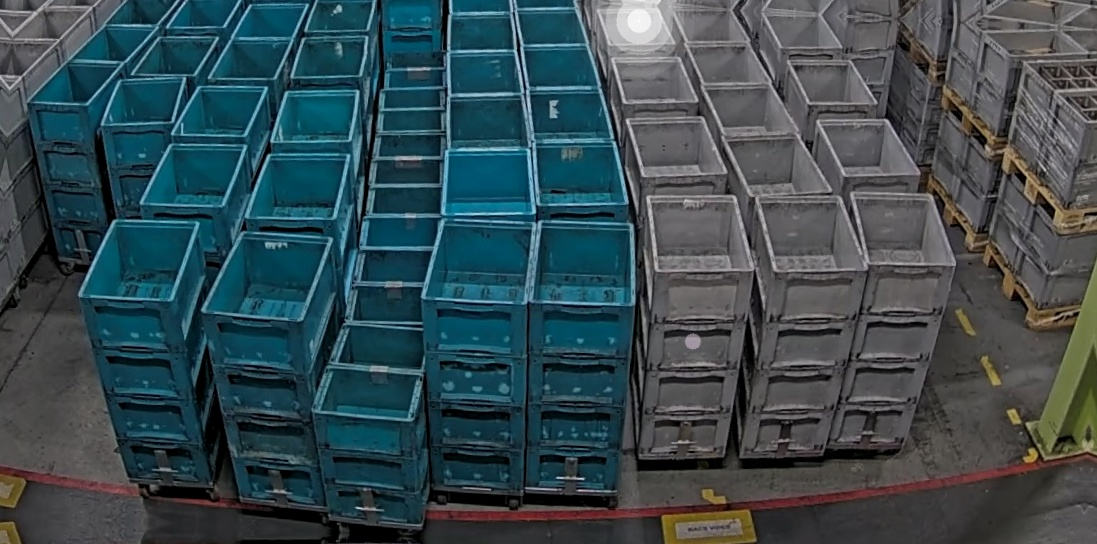4G: (730, 188, 872, 461), (824, 186, 962, 453), (627, 187, 760, 463)
B4: (67, 213, 235, 486), (189, 228, 349, 508), (408, 215, 539, 493), (515, 216, 641, 495), (92, 69, 189, 223)
B8: (304, 319, 438, 527)
